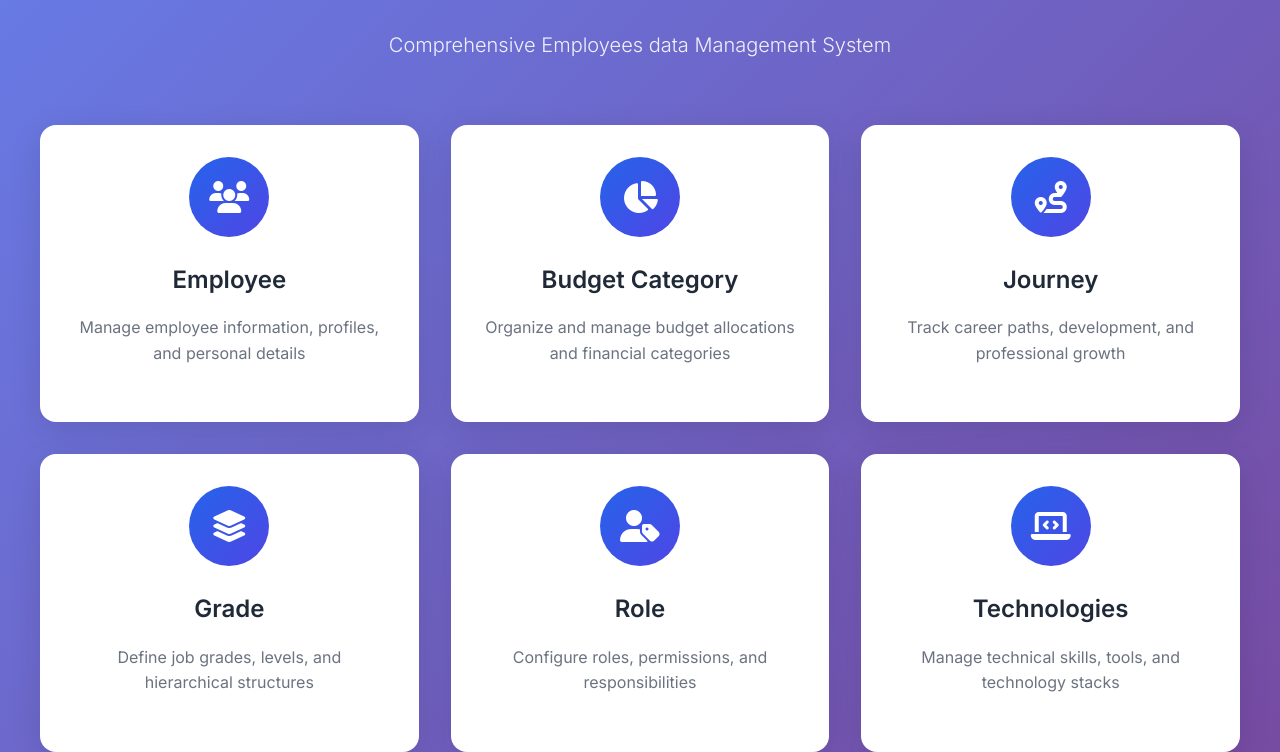
Test: Master Portal - Grade Management › should navigate to Grade Management
The width and height of the screenshot is (1280, 752).
(page scrolled)
Click the text "Grade". click: (230, 603)
box: left=40, top=454, right=419, bottom=751
(page scrolled)
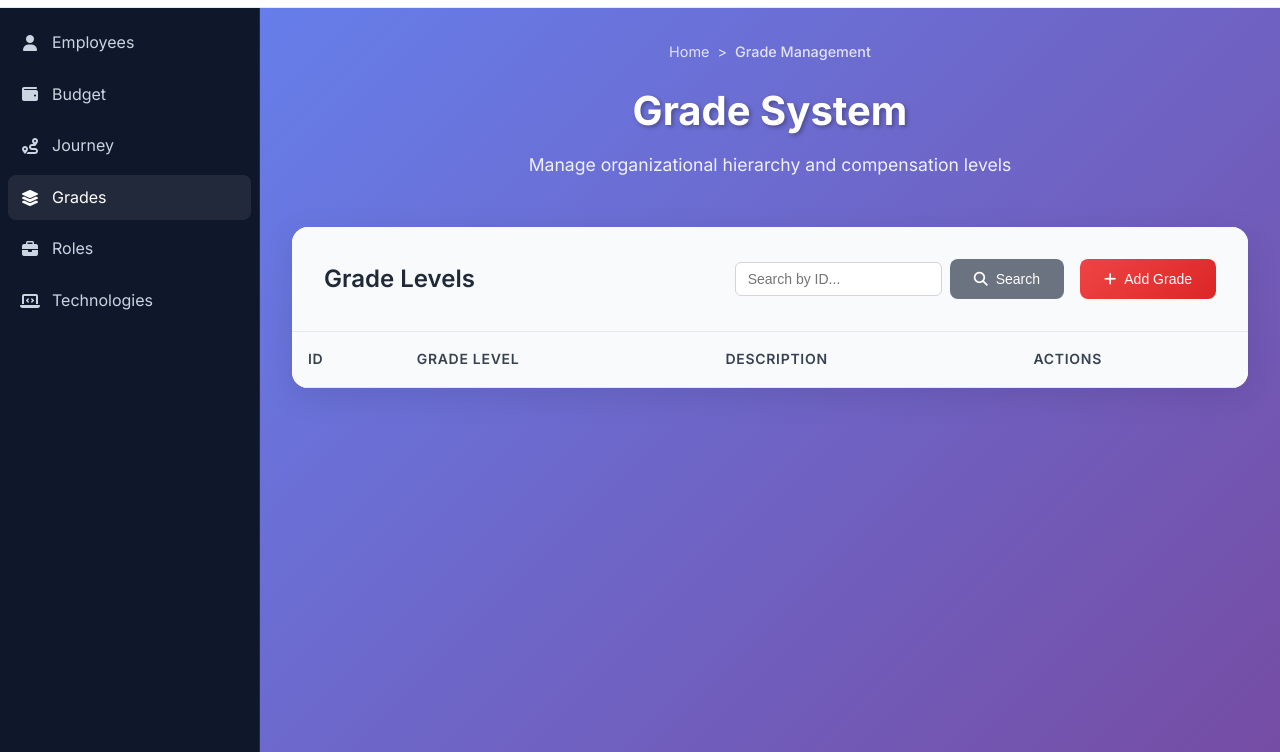
Now the text "Grade Management" is shown, box left=735, top=43, right=871, bottom=60
